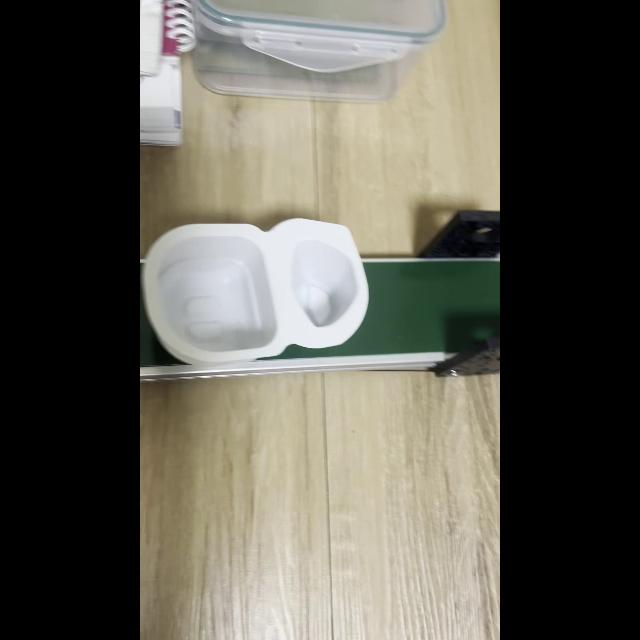clean: (143, 220, 370, 364)
